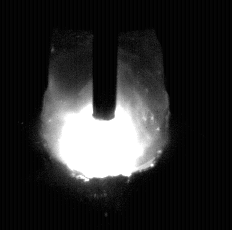arame: (93, 0, 118, 120)
poca: (39, 0, 171, 230)
